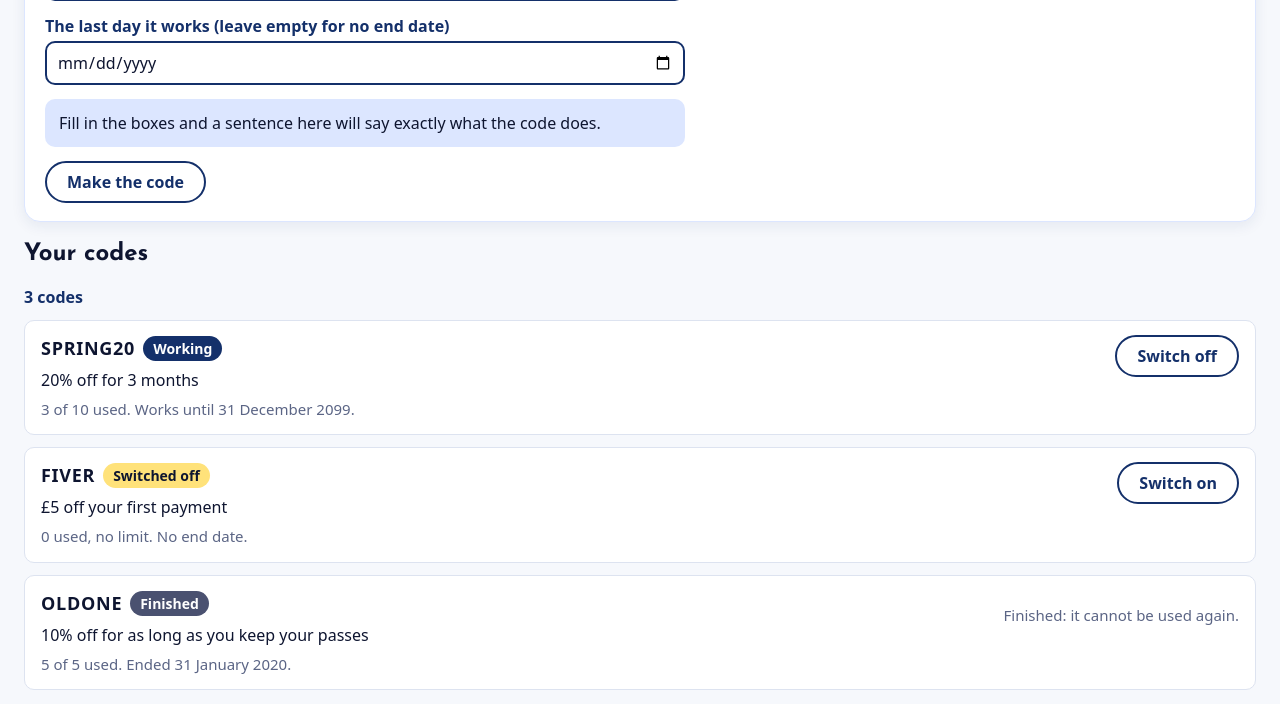
Test: the list of codes › switches a code off, shows it as switched off, and says so
(page scrolled)
Expected: the text "SPRING20" is shown, [41,335,135,362]
Click the button with aria-label "Switch off the code SPRING20" at point(1177, 356), box [1116,335,1239,377]
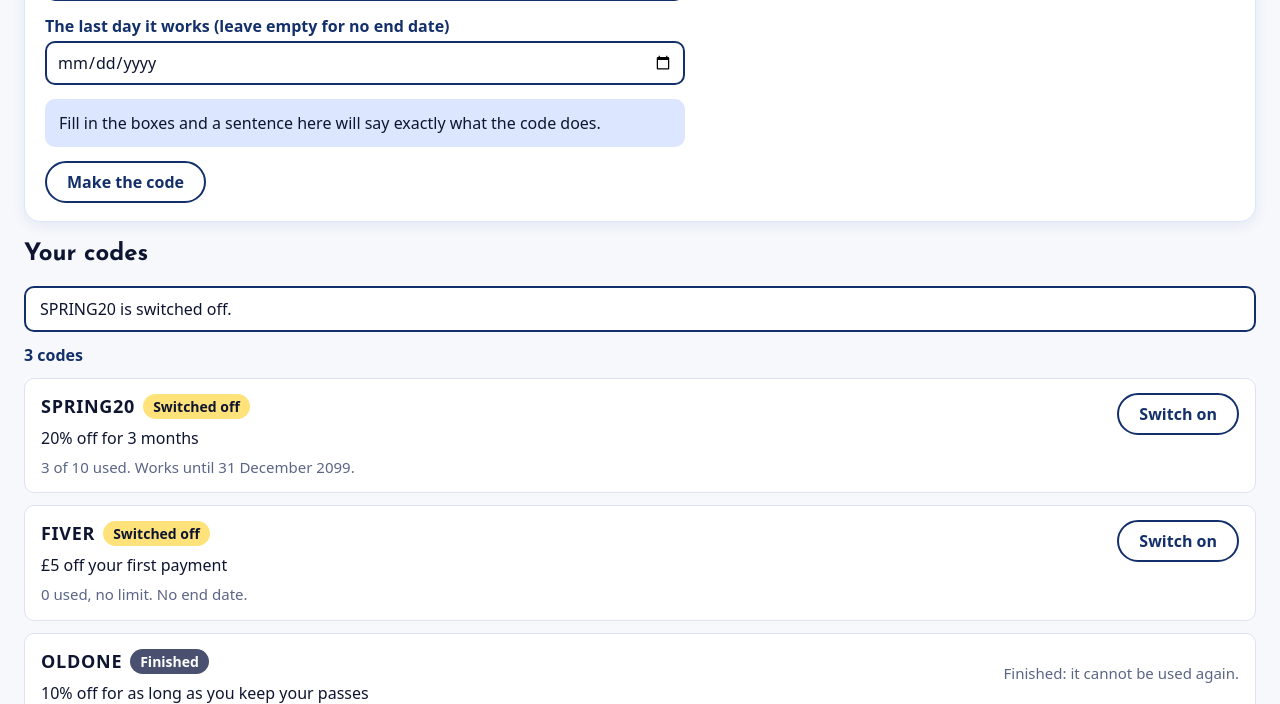
Result: the 1st text "Switched off" is shown at [143,394,250,419]
Result: the text "SPRING20 is switched off." is shown at [24,286,1256,332]
Result: the button with aria-label "Switch on the code SPRING20" is shown at [1117,393,1239,435]
